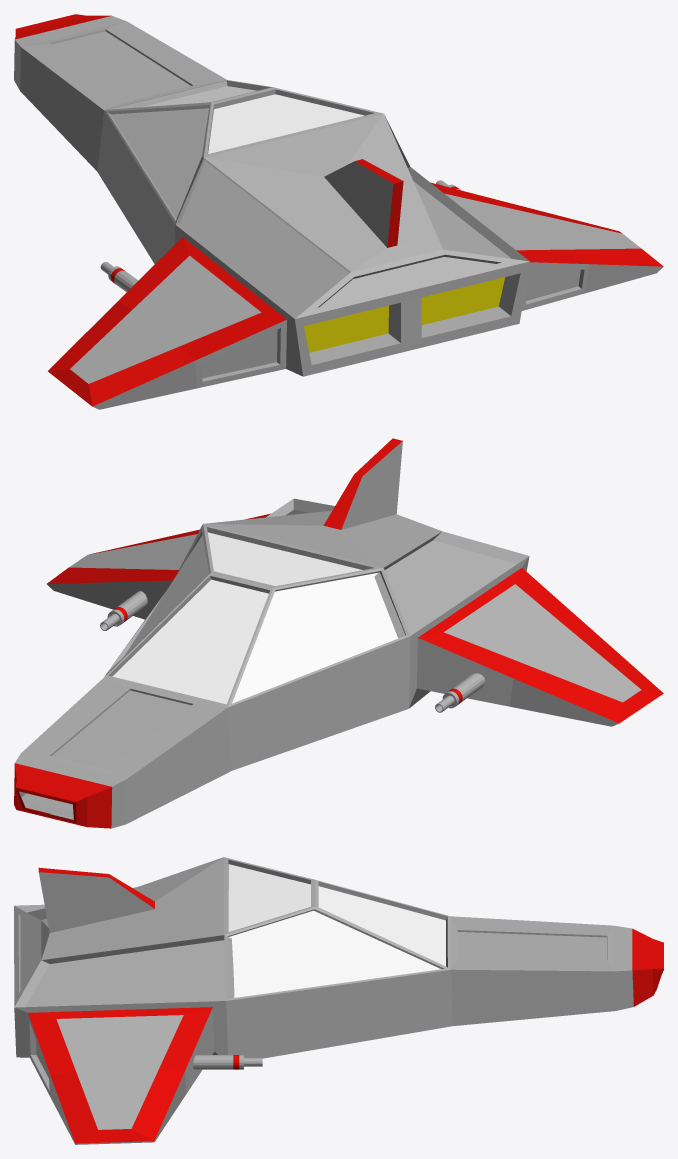
The model's file is xxblastship.gltf.
The picture shows the model from 3 angles, top to bottom: view 1: azimuth 30°, elevation 25°; view 2: azimuth 150°, elevation 25°; view 3: azimuth 270°, elevation 25°; orthographic projection. The views are drawn at different scales.
Visible parts, largest first — view 1: Ship; view 2: Ship; view 3: Ship.
Part boxes in pixels (x1,y1,x2,y2): Ship: (14,14,663,409); Ship: (14,438,663,828); Ship: (14,857,663,1144).
Bounding box in the file's own units: 9.84 × 2.86 × 10.92.
